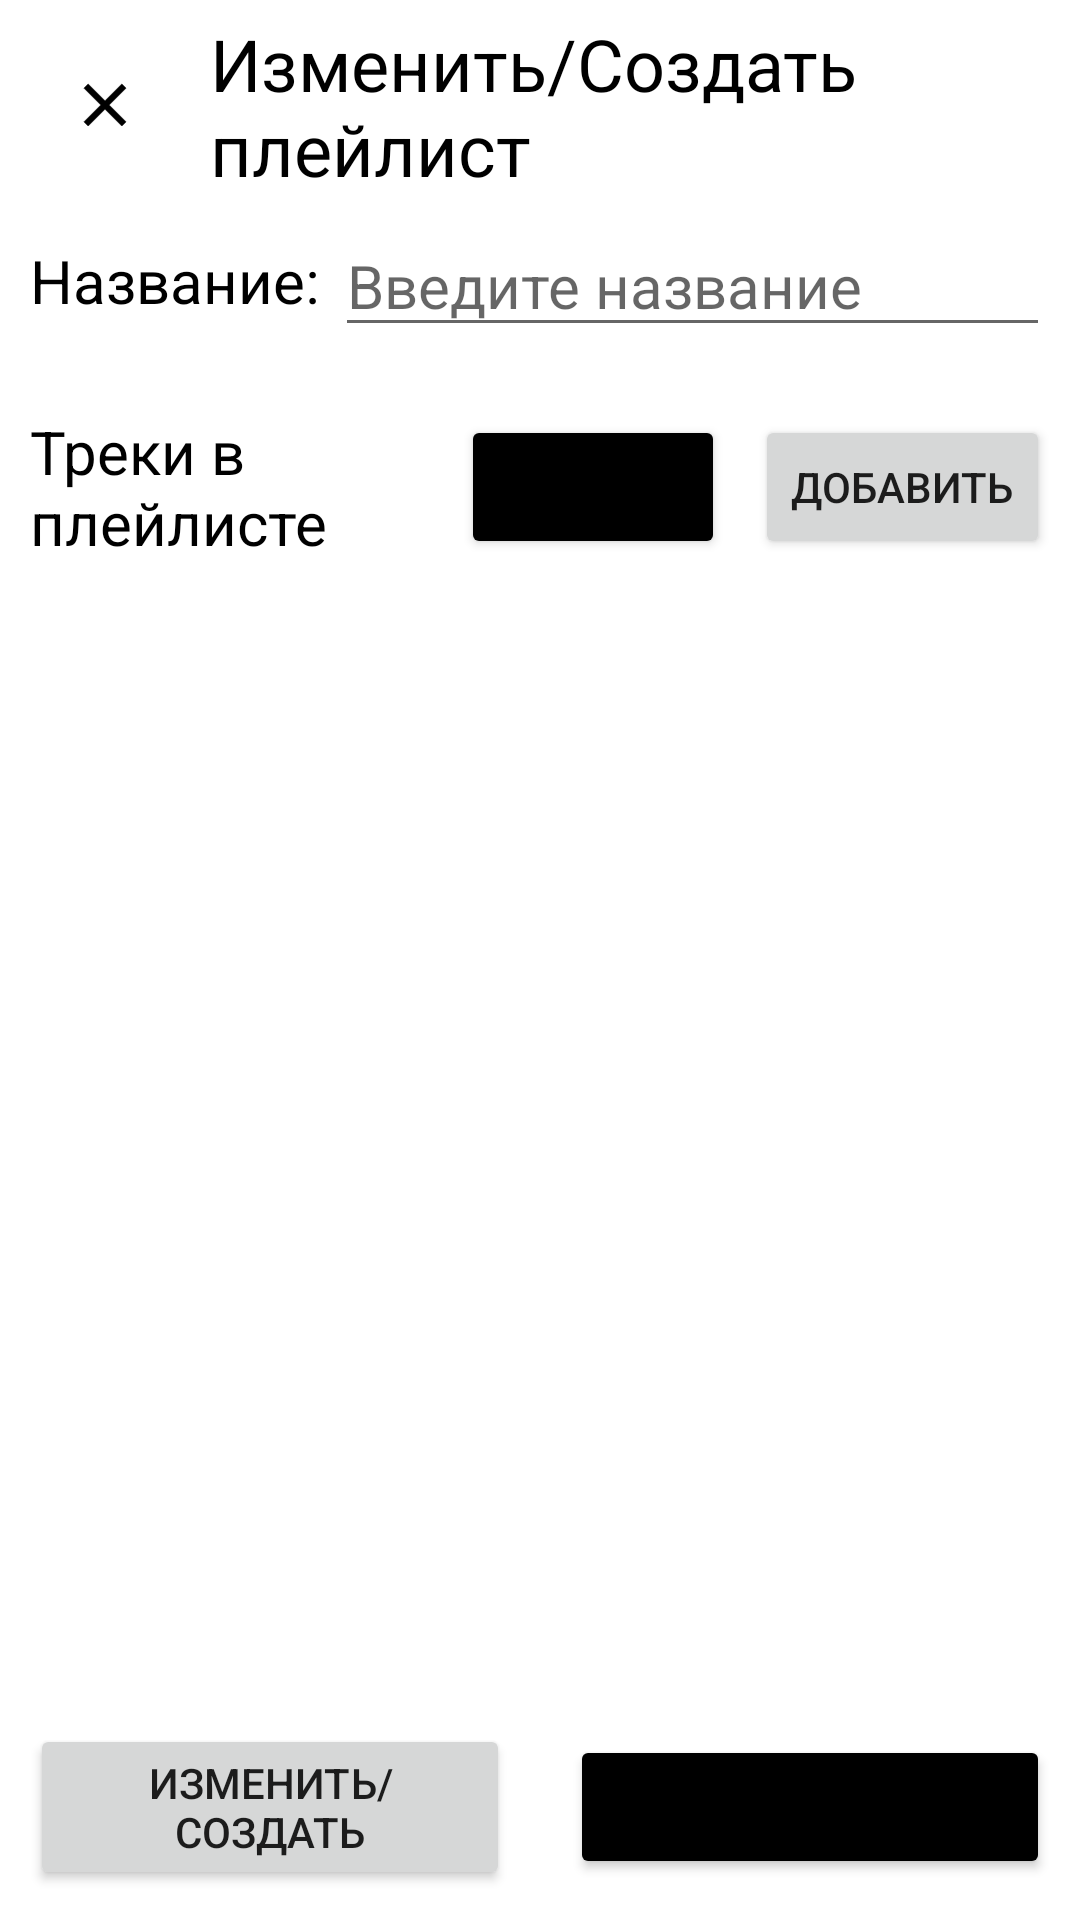

Locate icon controls on the screen. Image size 1080w x 1920h, boxes as (x1, y1, x2, y2).
Close Button: (83, 83, 127, 126)
